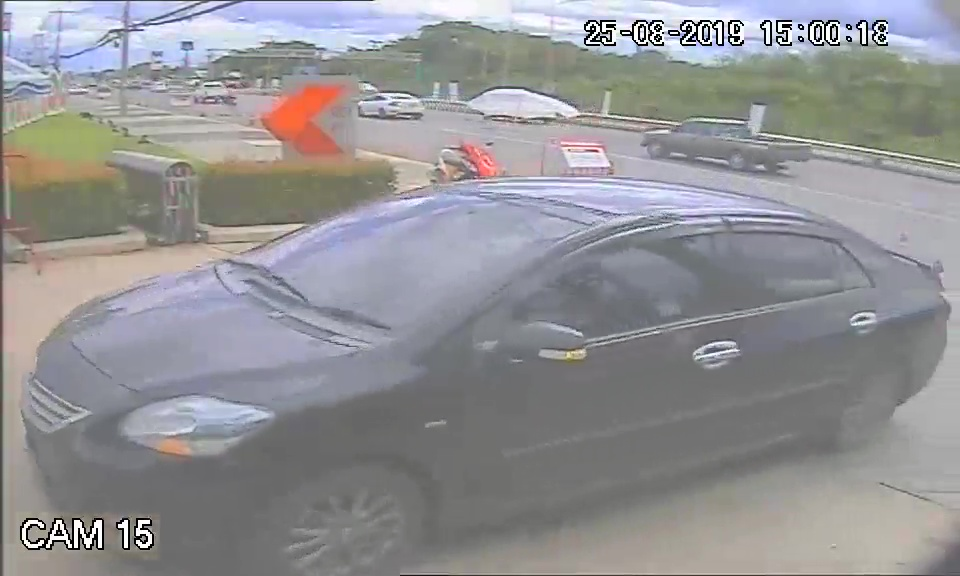sedan: (27, 170, 941, 566)
